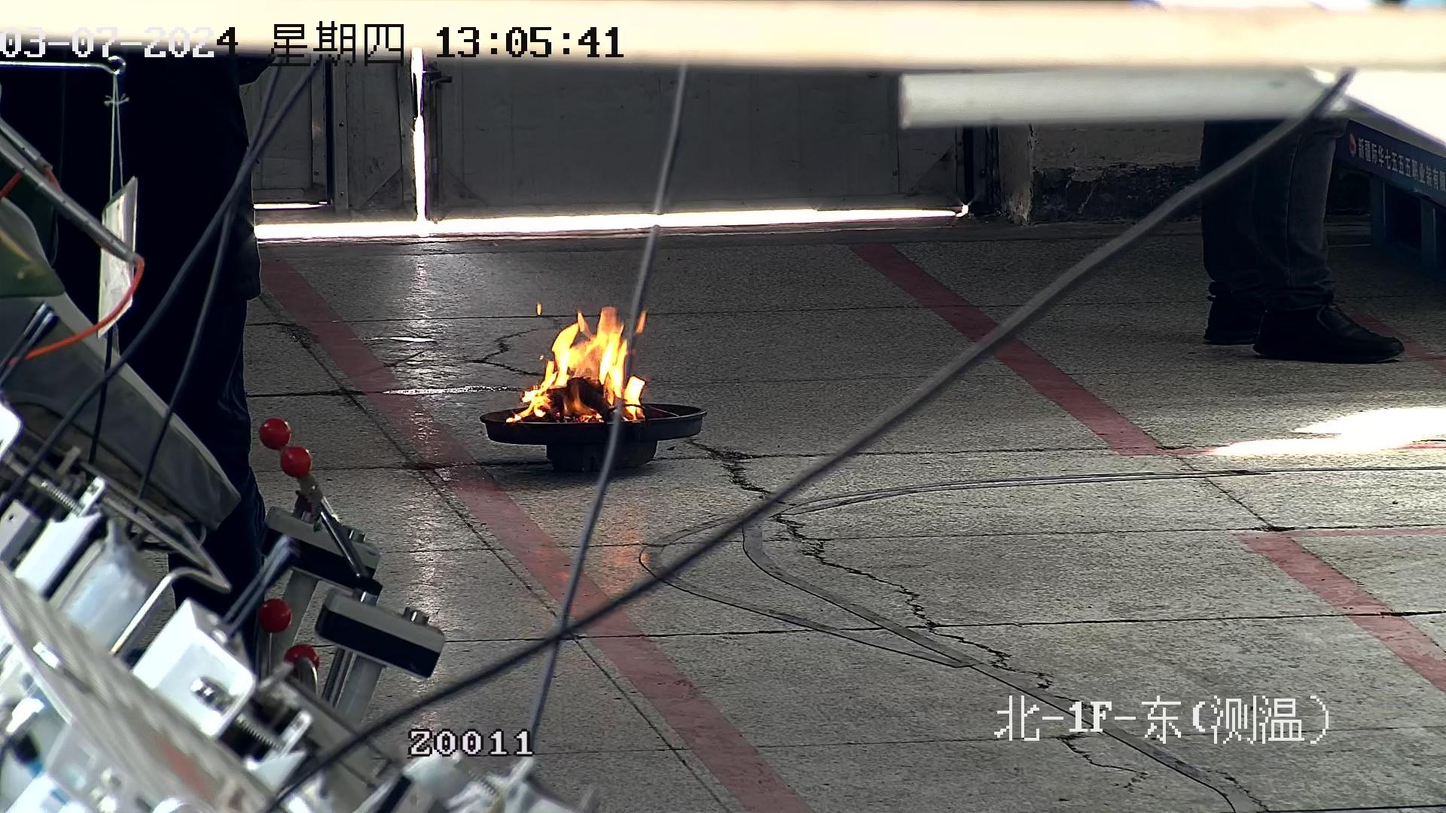fire: (503, 307, 647, 425)
